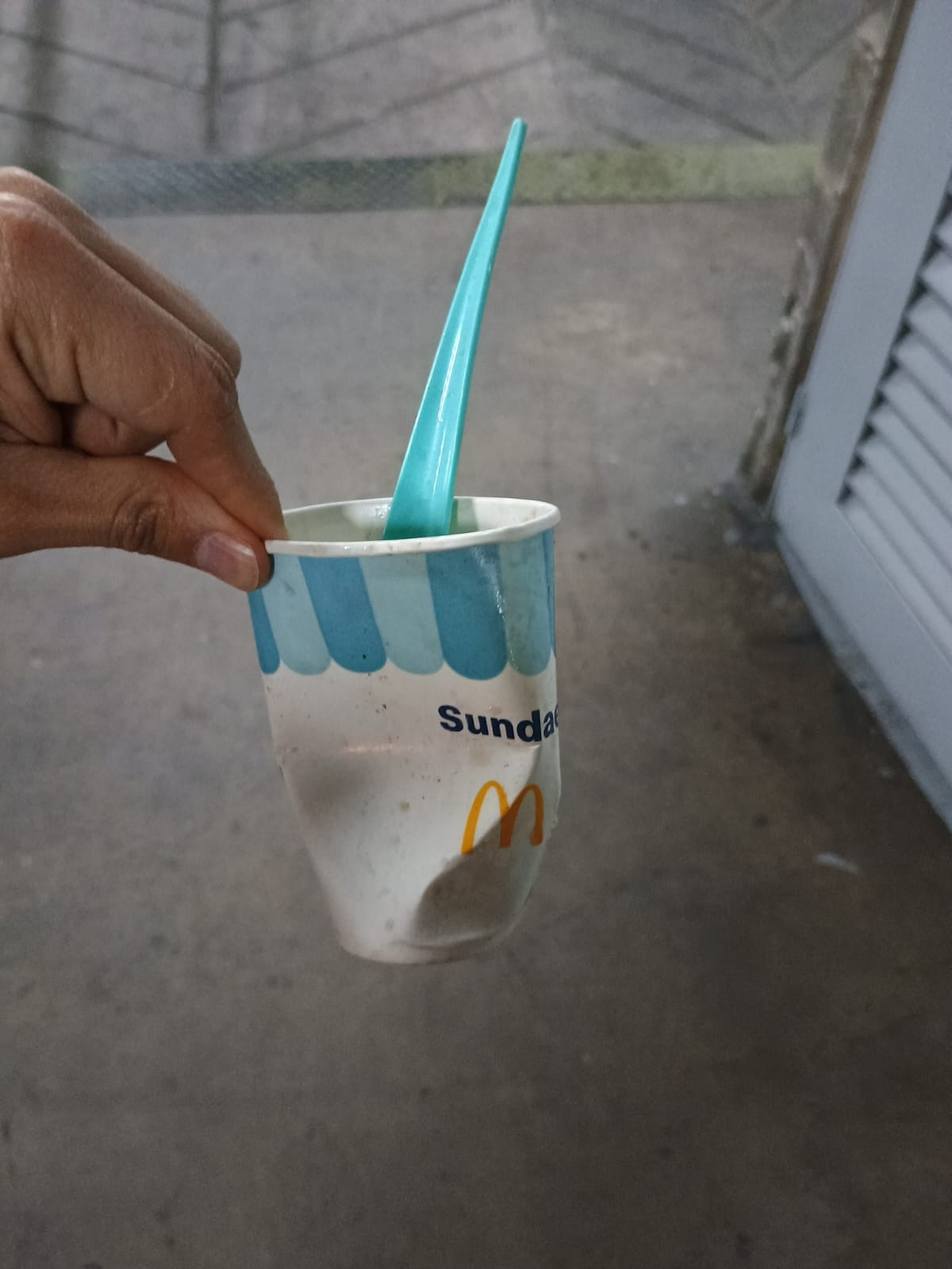Carton: (246, 496, 565, 965)
Plastico: (395, 115, 528, 499)
